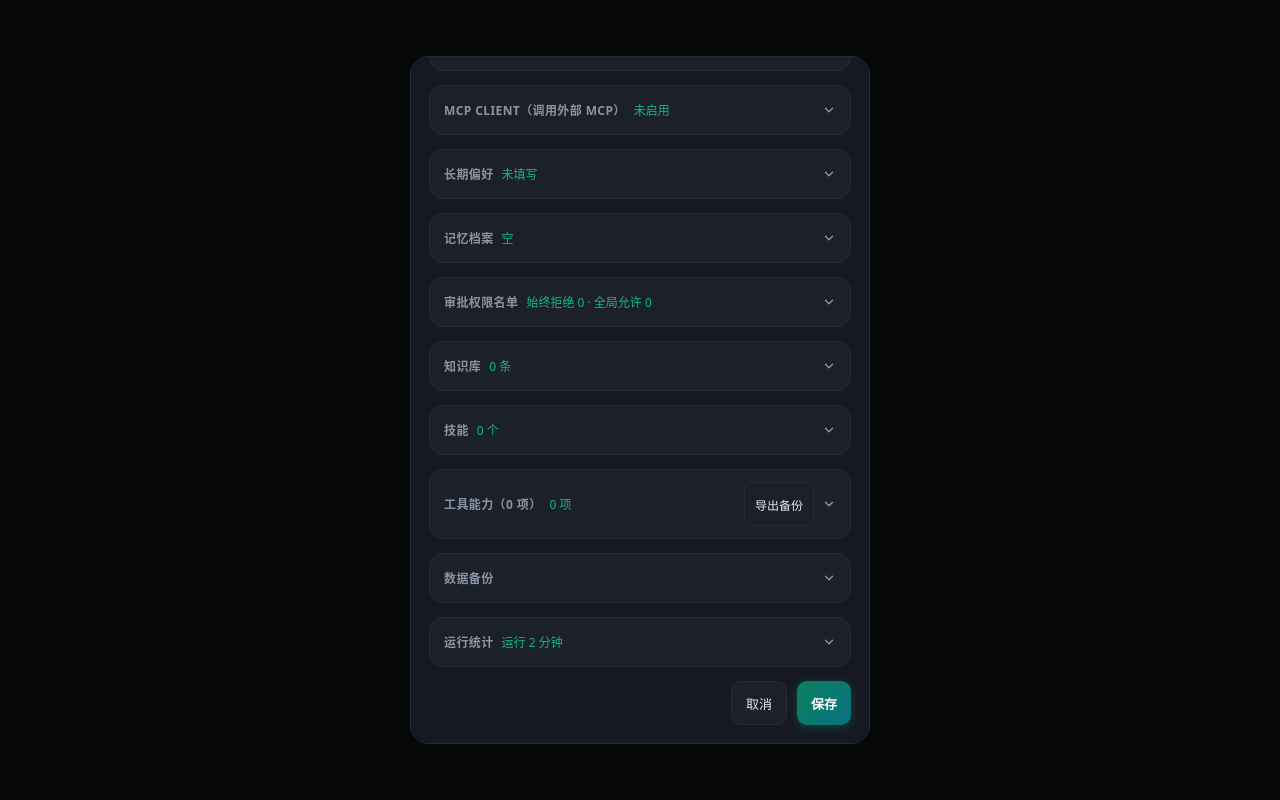
Test: SettingsPanel 能力面 › 运行统计显示真实计数与 token
The width and height of the screenshot is (1280, 800).
(page scrolled)
Step 1. Click the button "运行统计 运行 2 分钟" → (469, 642), box left=444, top=634, right=836, bottom=651
(page scrolled)
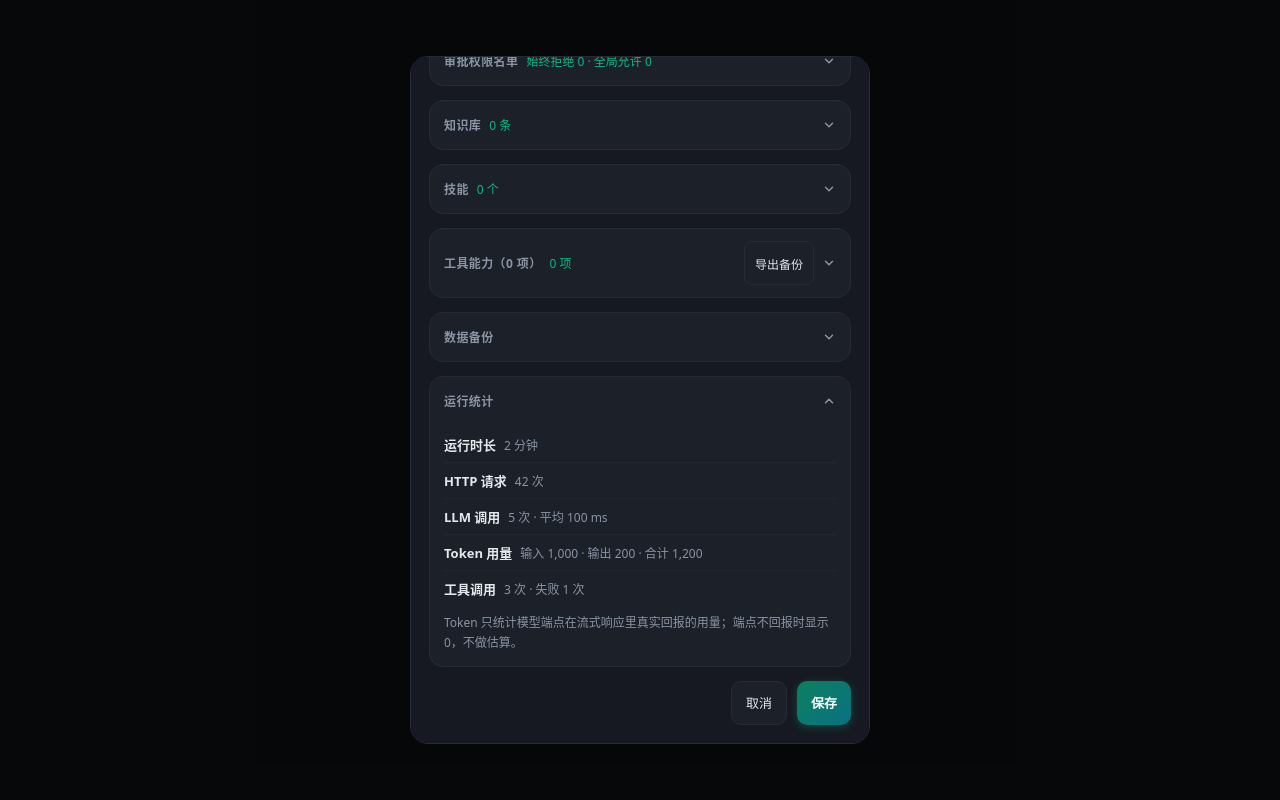
Now the text "HTTP 请求" is shown, box left=444, top=471, right=507, bottom=492
Now the text "42 次" is shown, box left=515, top=473, right=544, bottom=490
Now the text "输入 1,000 · 输出 200 · 合计 1,200" is shown, box left=520, top=545, right=703, bottom=562
